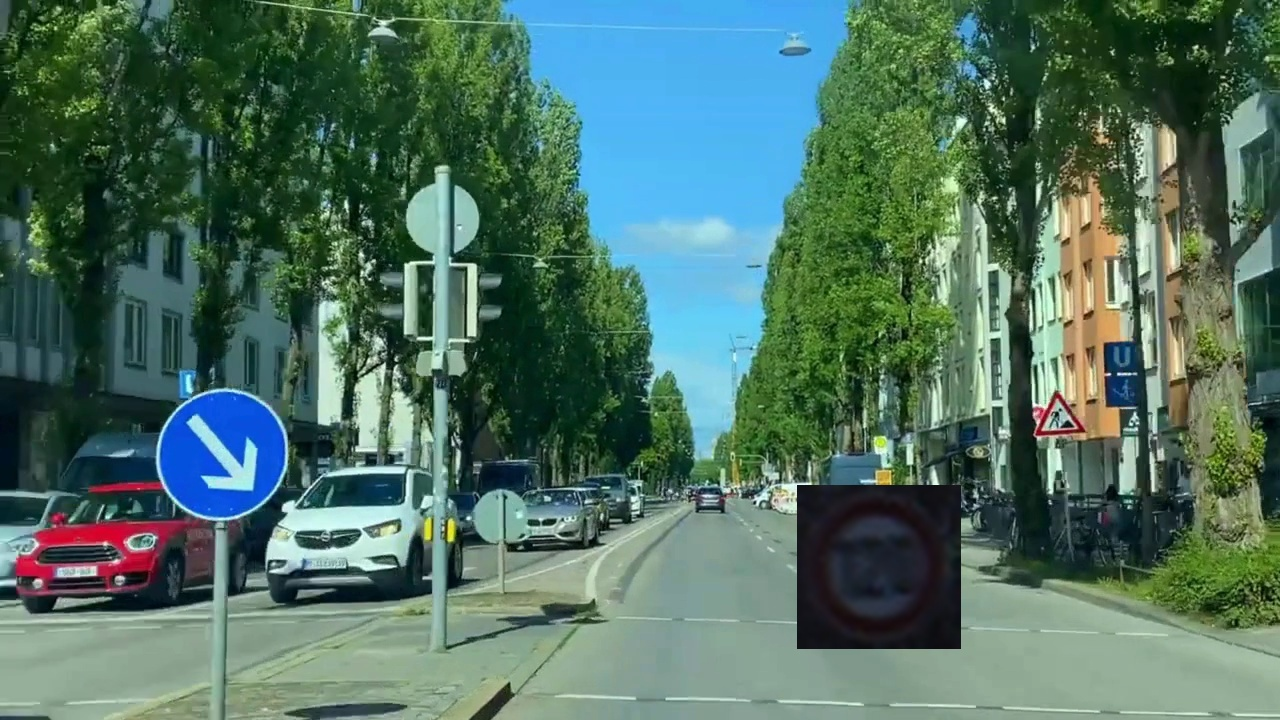Speed 120: (797, 485, 961, 649)
